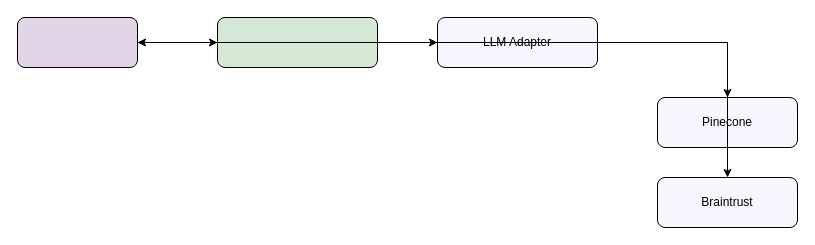
This 815x245 diagram has some shape labels left out. Each missing label, with the centre of its shape:
"App" goes at point (77, 42).
"Meta-Controller" goes at point (297, 42).
